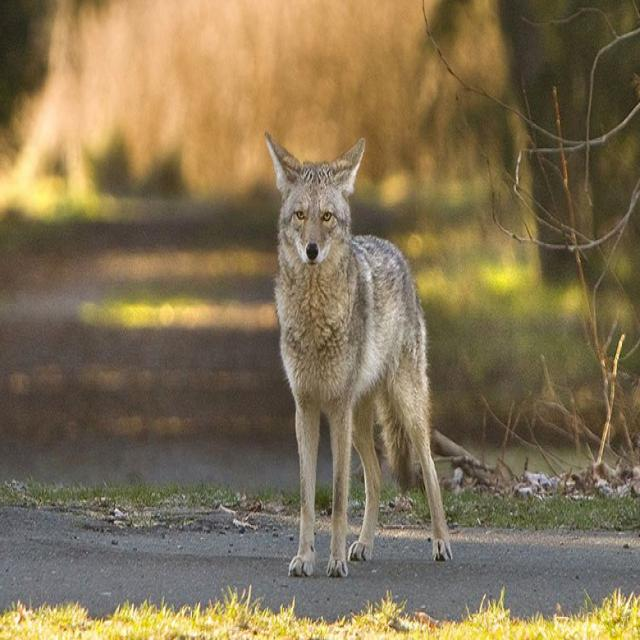coyote: (265, 133, 453, 580)
